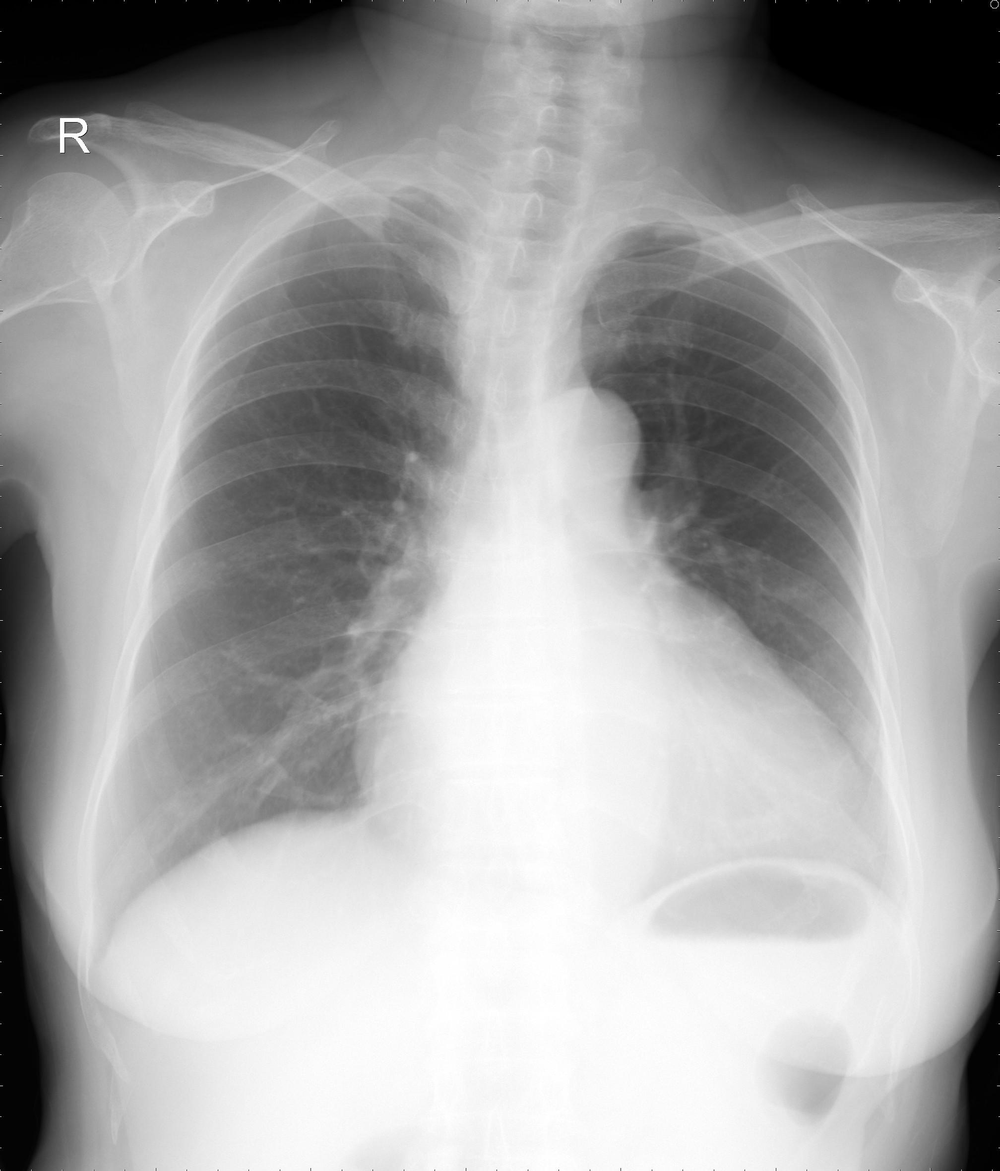Aortic enlargement: (525, 372, 646, 501)
Cardiomegaly: (351, 672, 883, 905)
Pleural thickening: (643, 215, 735, 260)
